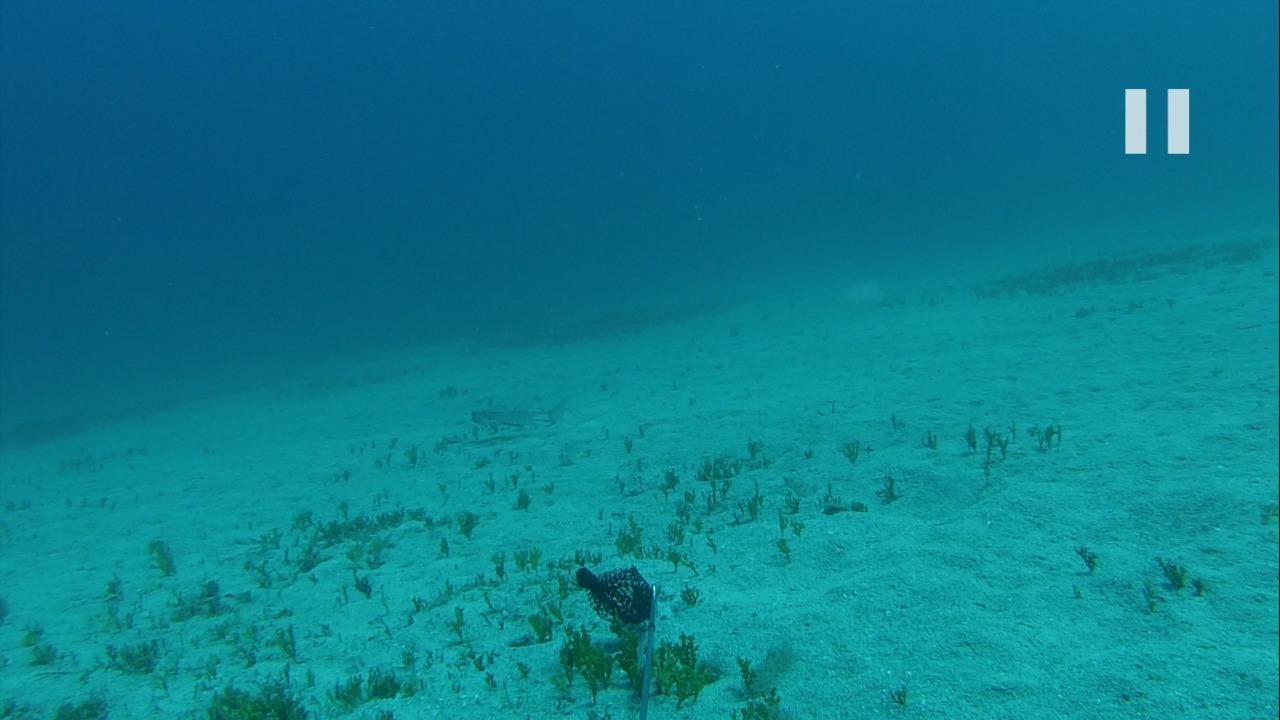dactylopterus: (455, 397, 565, 441)
